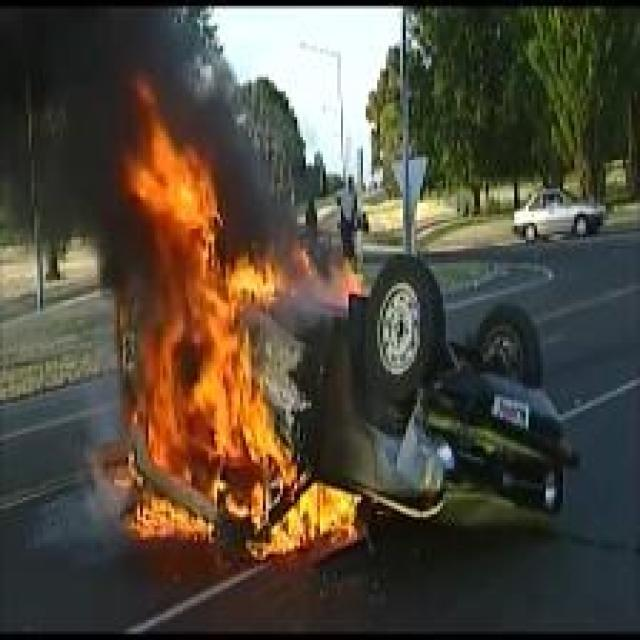Fire: (121, 74, 368, 557)
